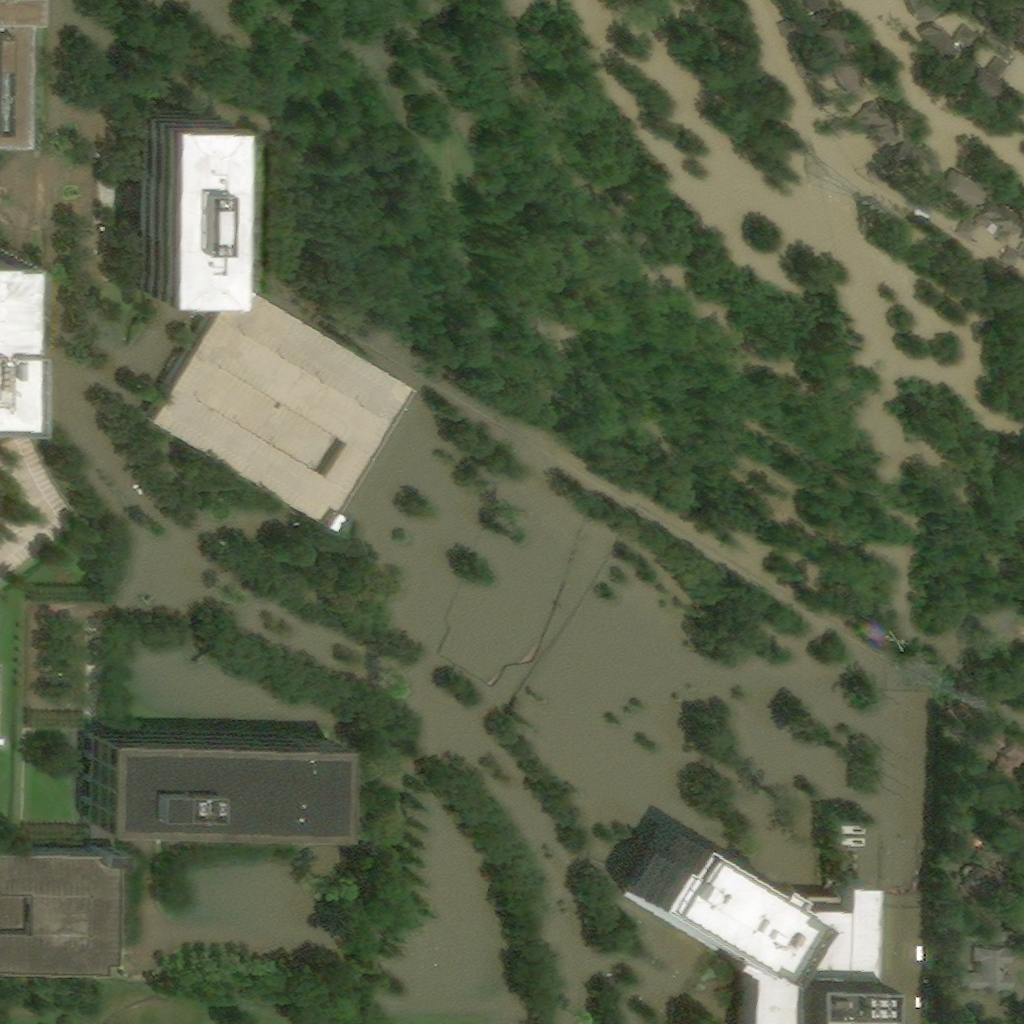destroyed: (828, 98, 902, 144), (867, 165, 894, 189), (1003, 243, 1022, 268), (949, 905, 960, 928)
major_damage: (140, 264, 407, 517), (616, 801, 860, 1023), (88, 715, 328, 828), (127, 78, 217, 286), (799, 50, 868, 105), (916, 164, 982, 219), (969, 720, 1022, 778), (957, 196, 1022, 242), (887, 137, 943, 182), (962, 946, 1016, 990), (921, 21, 981, 59), (959, 55, 1017, 90), (988, 0, 1022, 50), (806, 11, 845, 53), (834, 817, 862, 843), (907, 0, 942, 20), (989, 837, 1007, 855), (804, 0, 822, 9)
minor_damage: (0, 830, 113, 974)
